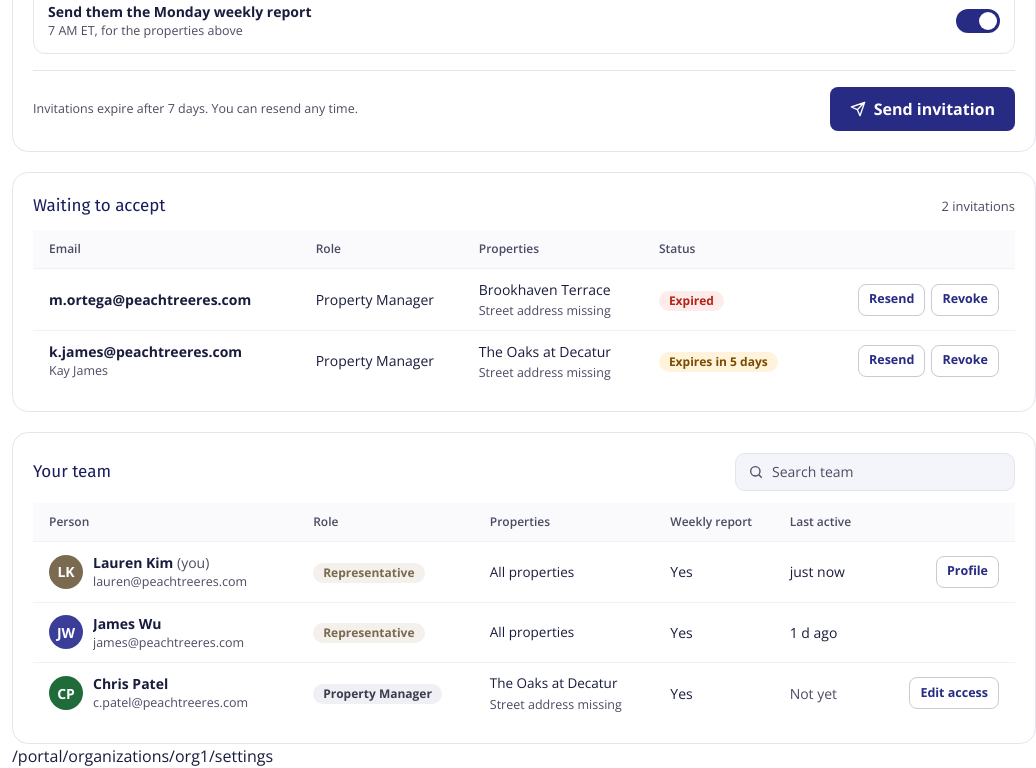
Test: TeamSettingsPage › filters the team by name or email
The image size is (1036, 768).
(page scrolled)
Expected: the table named "Your team" is shown, [33,503,1015,723]
Type "patel" into the search field labelled "Search team".
click(887, 472); type("patel")  # box [772,461,1002,482]
(page scrolled)
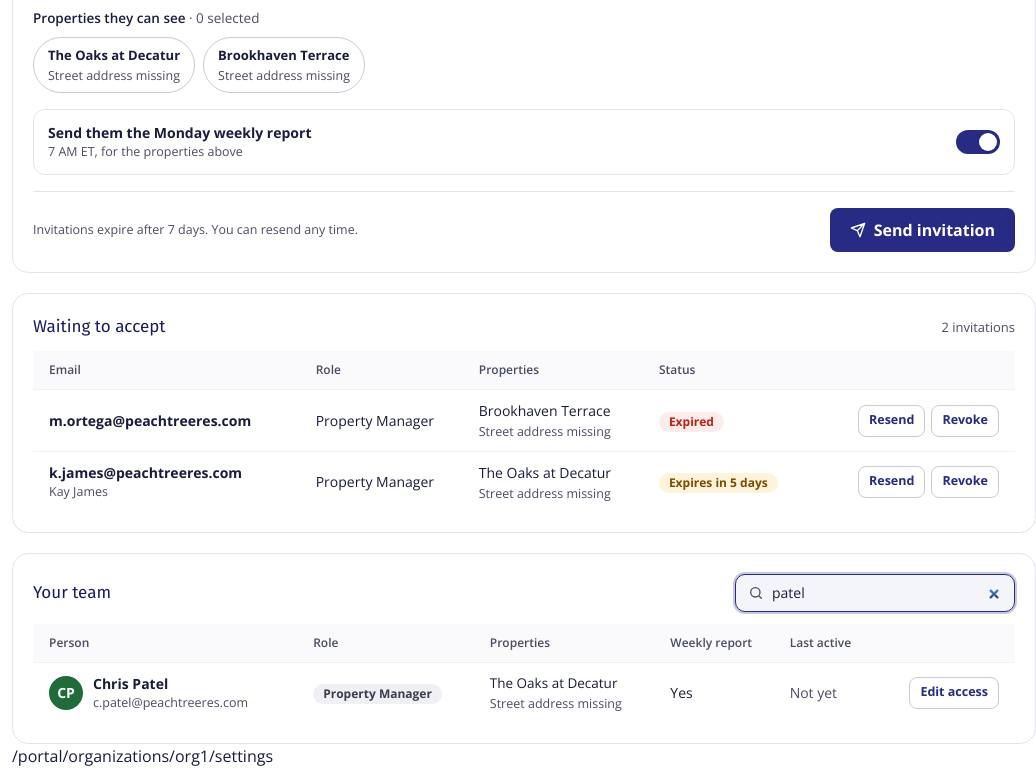
Expected: the text "Chris Patel" is shown, [93,674,168,693]
Expected: the text "James Wu" is gone
